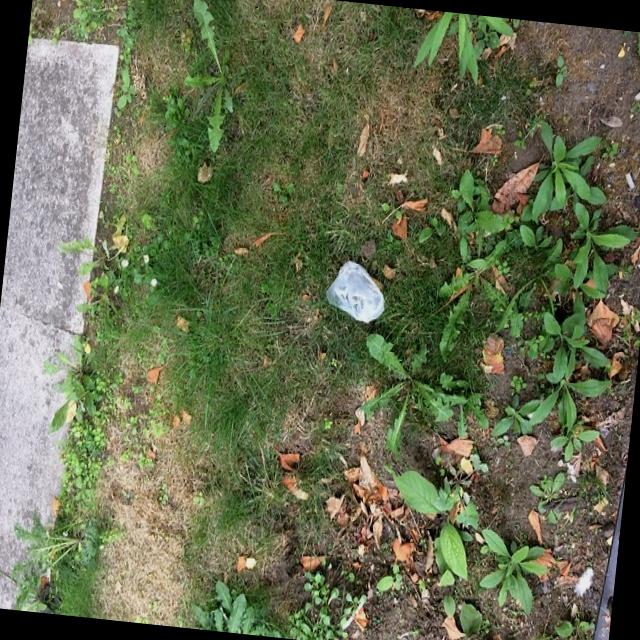Trash: (324, 260, 391, 327)
